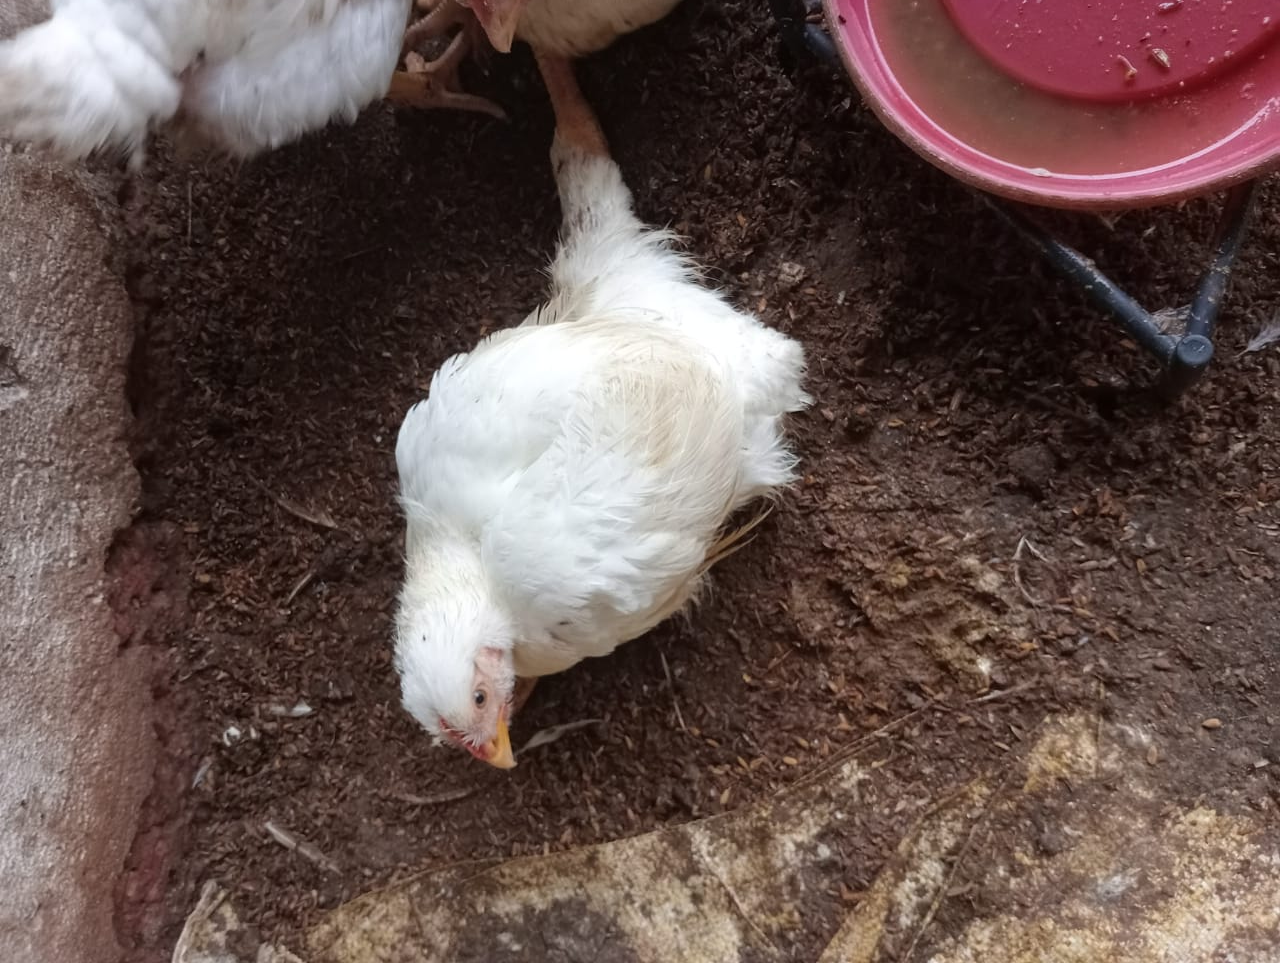Unhealthy: (339, 162, 834, 775)
